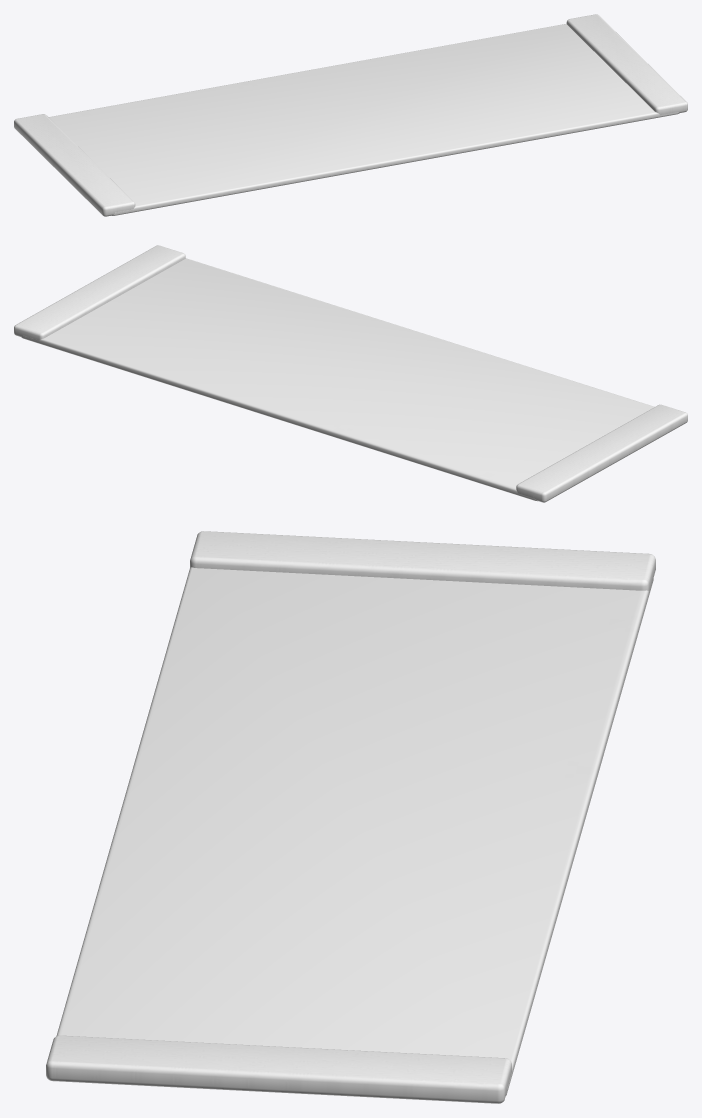
The model's file is label.glb.
3 views of the same model, one above another, from view 1: azimuth 30°, elevation 25°; view 2: azimuth 150°, elevation 25°; view 3: azimuth 270°, elevation 25° (orthographic). The views are drawn at different scales.
Visible parts, largest first — view 1: label, fold-1, fold1; view 2: label, fold-1, fold1; view 3: label, fold1, fold-1.
Boxes of the visible parts, box(x1,y1,x2,y2) form: label: box(49, 23, 679, 215); fold-1: box(14, 114, 135, 216); fold1: box(566, 14, 687, 115); label: box(21, 258, 654, 501); fold-1: box(516, 404, 687, 502); fold1: box(14, 245, 185, 341); label: box(56, 567, 653, 1095); fold1: box(46, 1035, 511, 1103); fold-1: box(190, 531, 655, 592).
Bounding box in the file's own units: 0.0741 × 0.00125 × 0.0343.
Materials: 4 (4 with a texture image).
